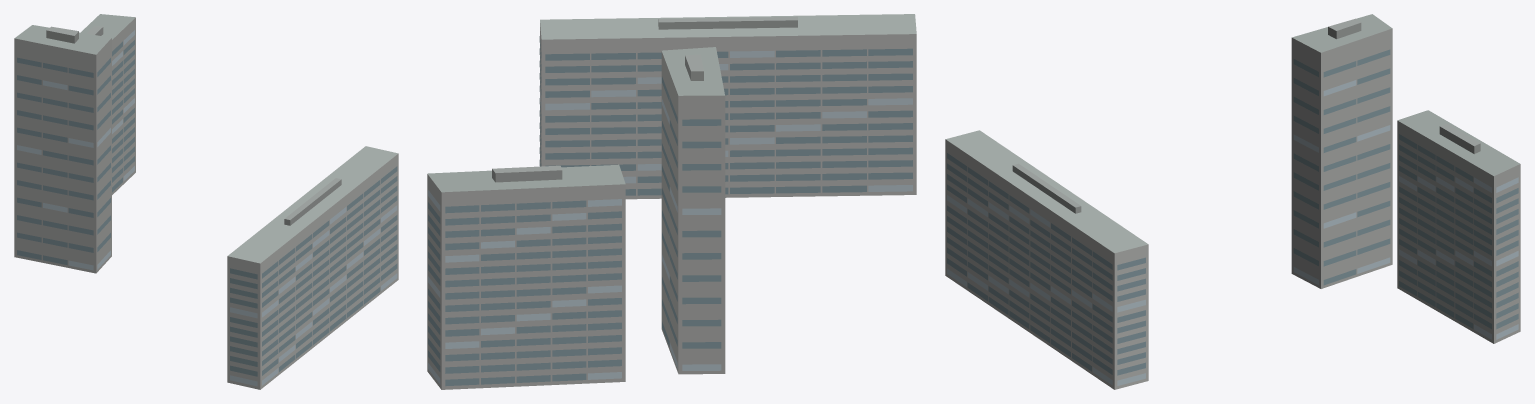
File: apt-a15205508.glb
3 renders of one model, left to right at view 1: azimuth 30°, elevation 25°; view 2: azimuth 150°, elevation 25°; view 3: azimuth 270°, elevation 25°, orthographic. The views are drawn at different scales.
Visible parts, largest first — view 1: apt-a15205508; view 2: apt-a15205508; view 3: apt-a15205508.
Boxes of the visible parts, <box> form: apt-a15205508: <box>14,14,398,389</box>; apt-a15205508: <box>427,14,916,389</box>; apt-a15205508: <box>945,14,1520,389</box>.
Bounding box in the file's own units: 86.95 × 71 × 151.
